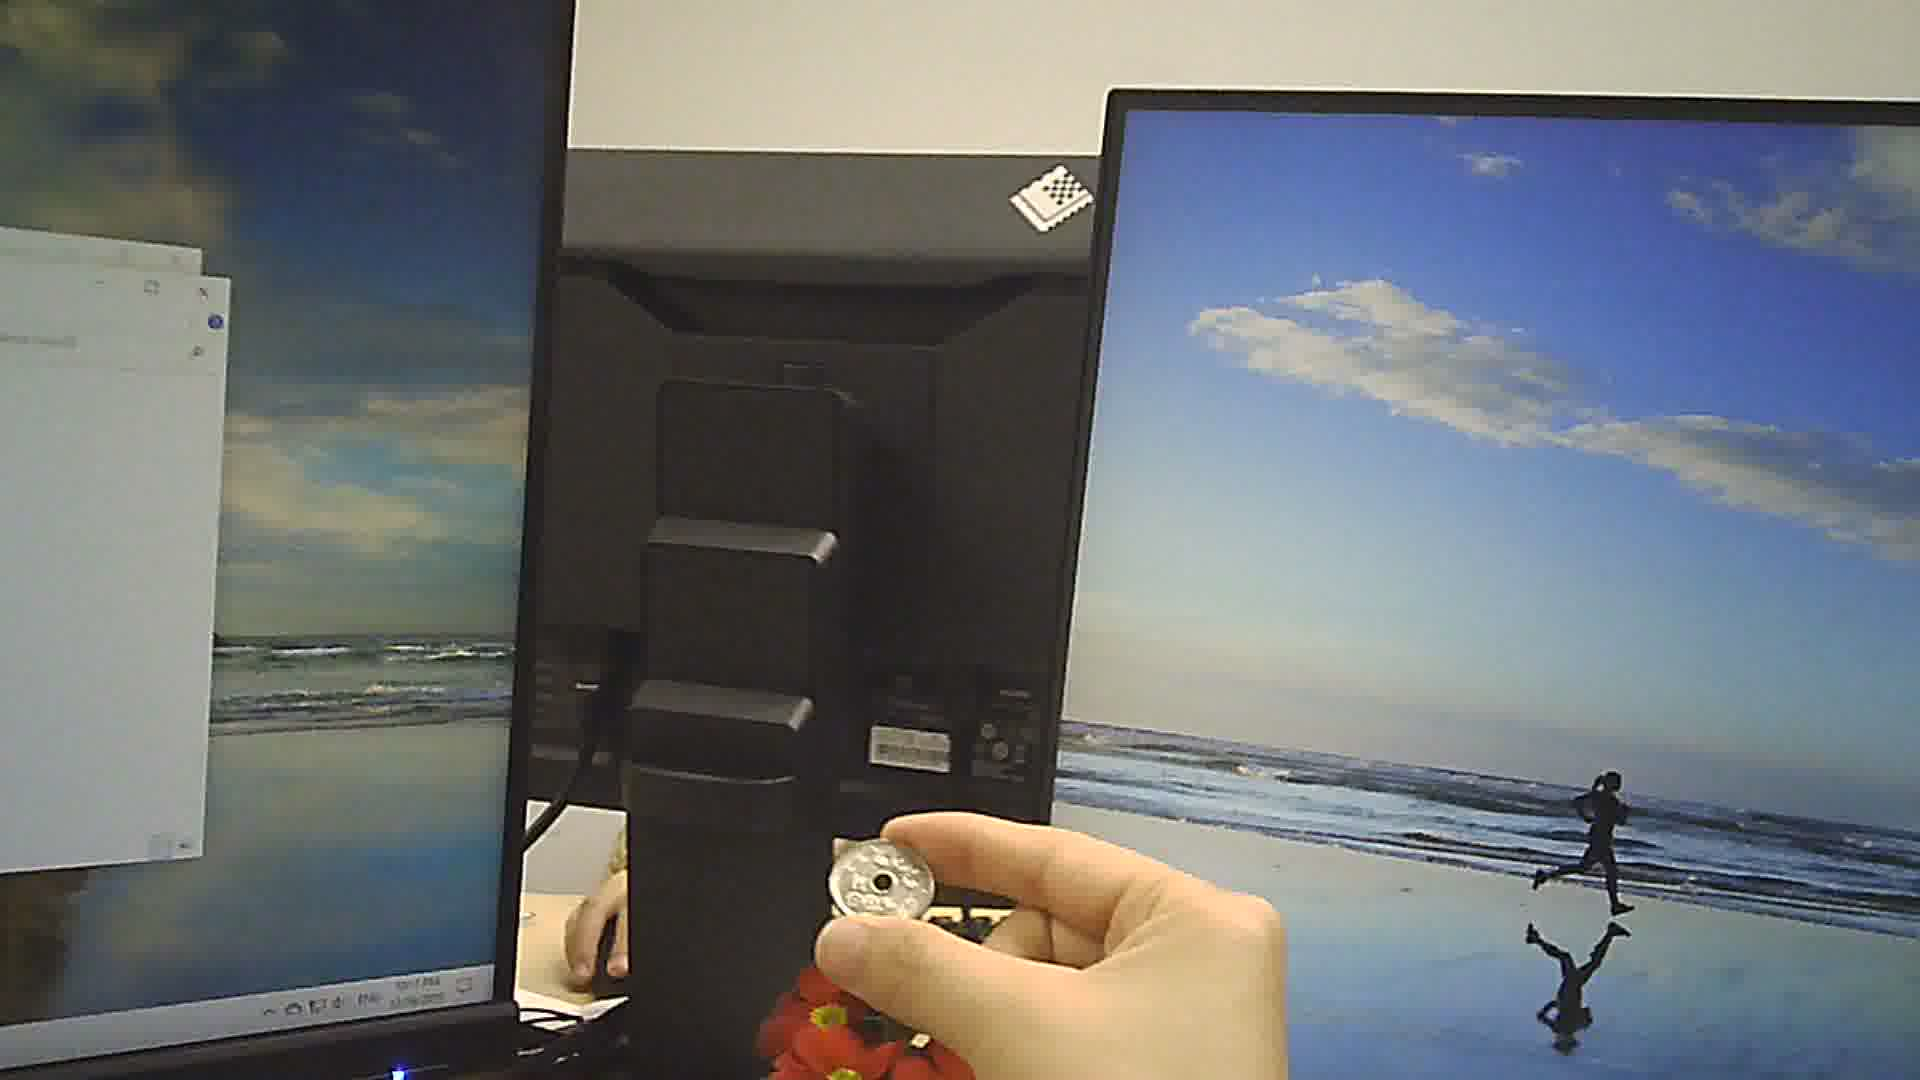50 Yen: (827, 825, 939, 924)
